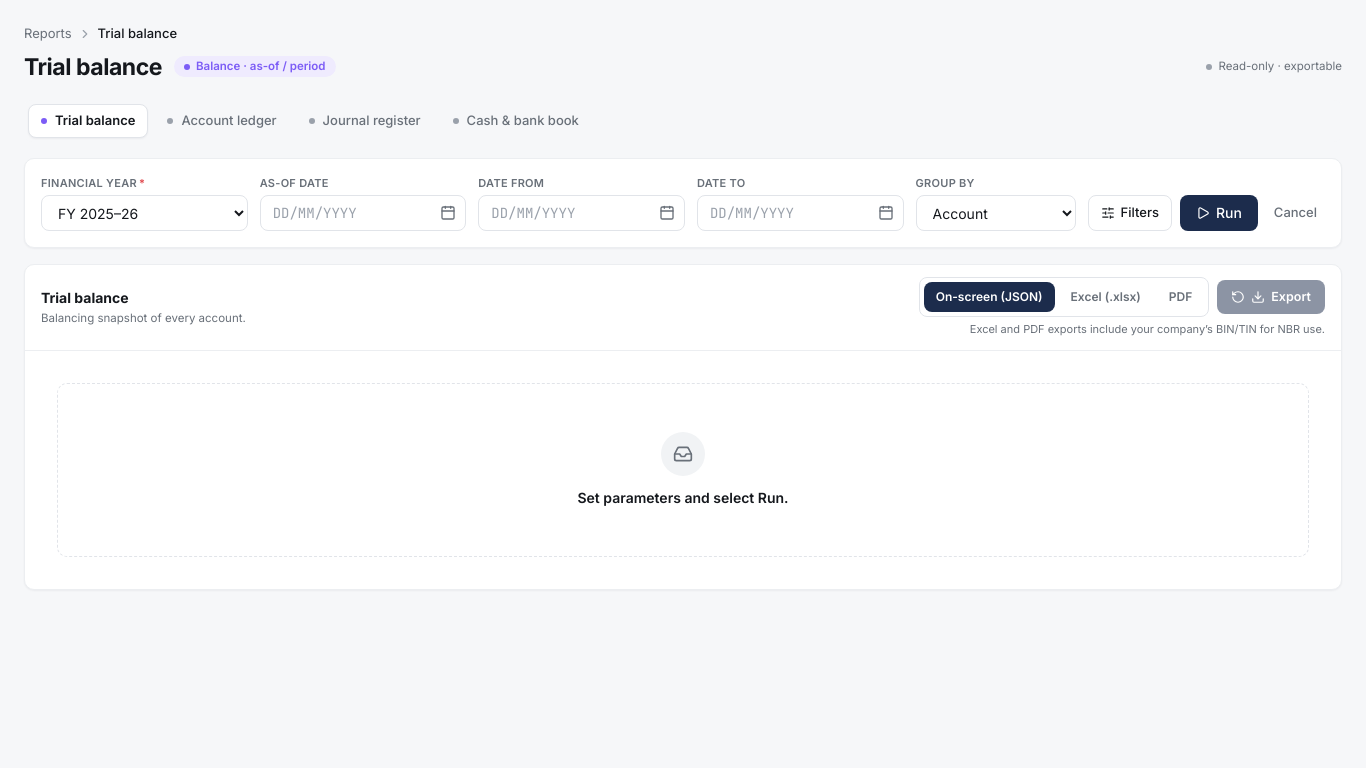
Test: Account ledger — opening balance + running balance across pages (FR-RPT-010) › source-voucher link resolves for journalEntryId + degrades for missing source
This screenshot has width=1366, height=768.
Click the tab with test id "tb-tab-LEDGER" at (222,121), box [154, 104, 290, 138]
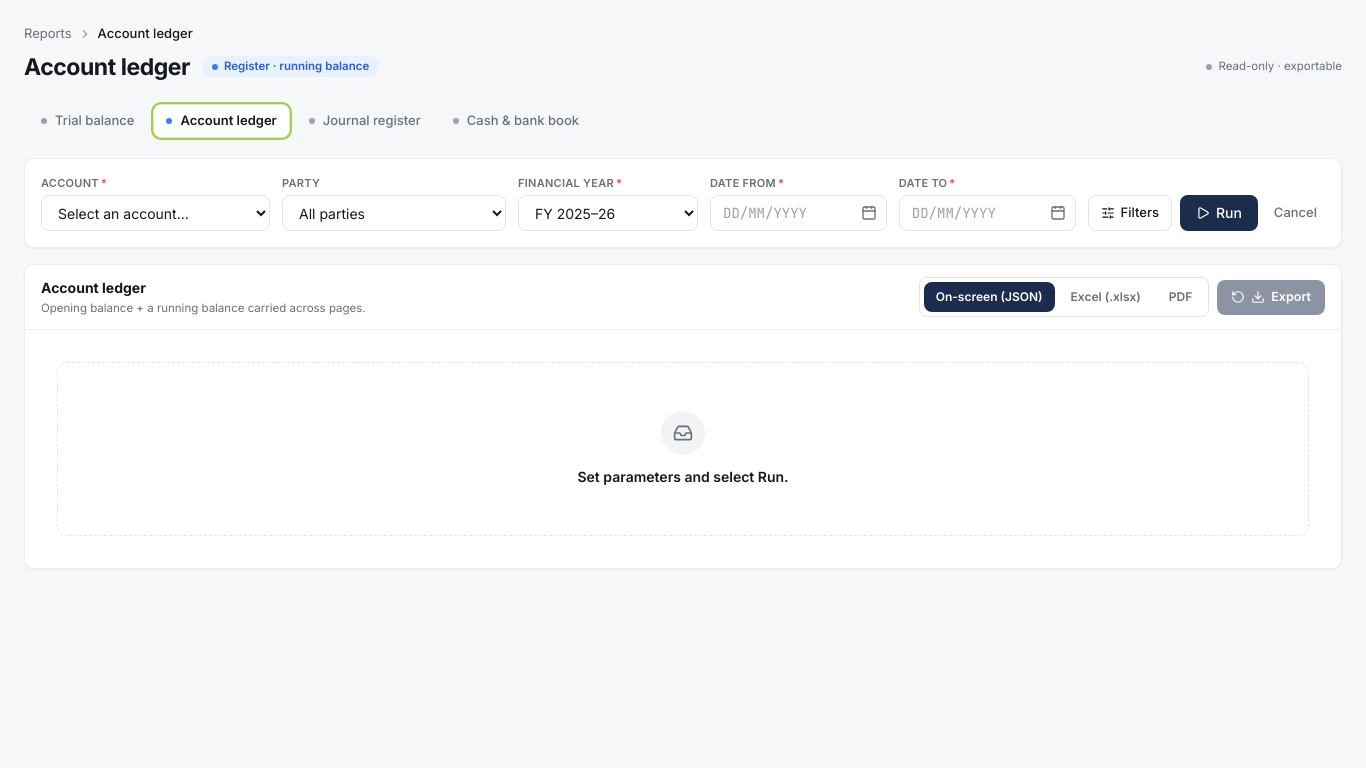
Type "01/04/2026" into the field labelled "Date from*" at (798,213), box [710, 195, 887, 231]
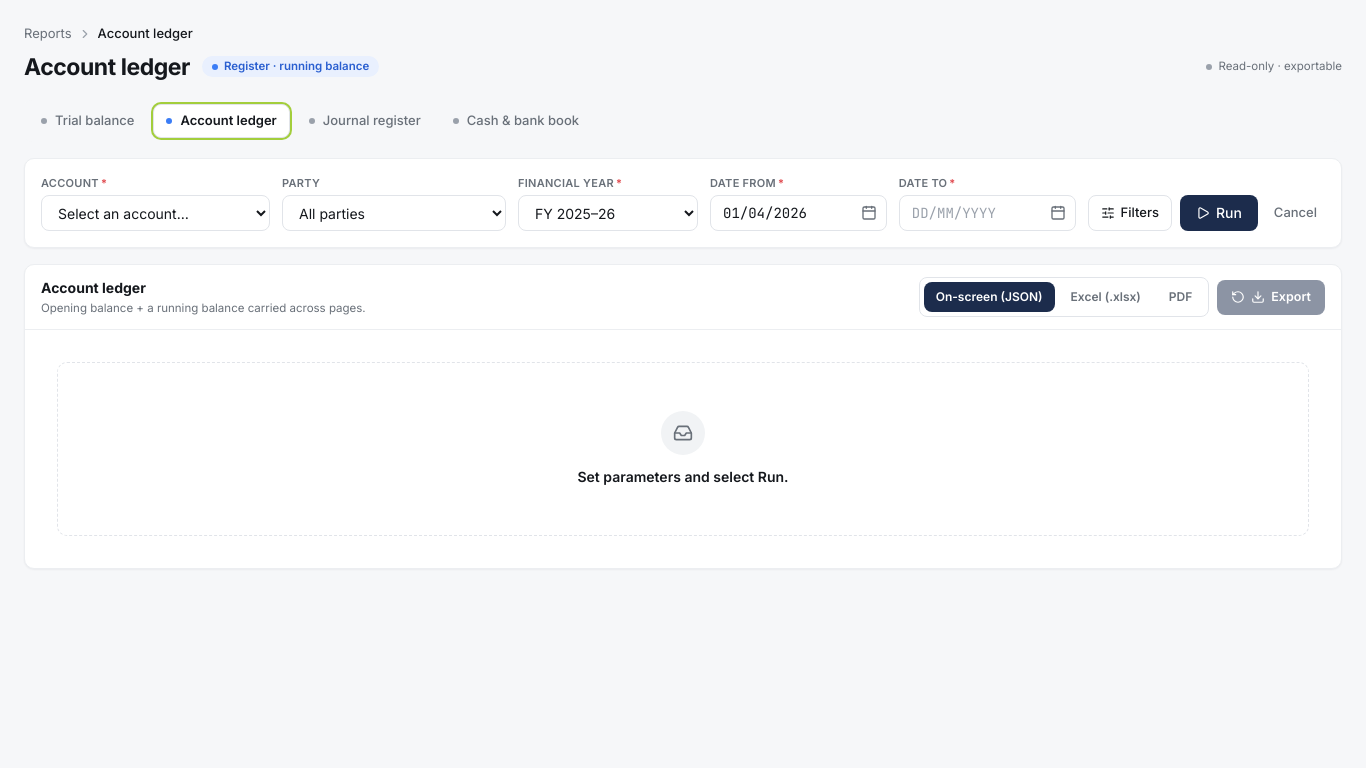
Type "30/06/2026" into the field labelled "Date to*" at (987,213), box [899, 195, 1076, 231]
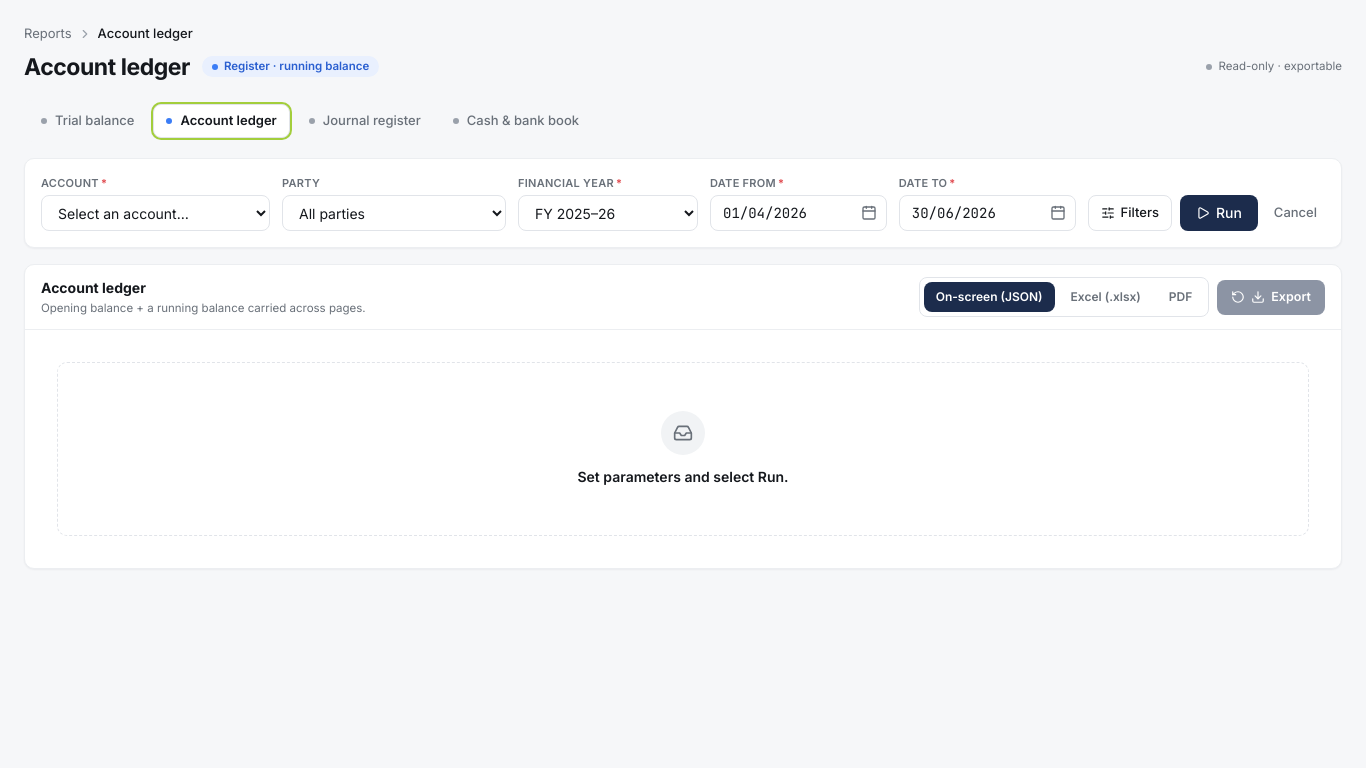
Select "1200 · Accounts Receivable" in the dropdown with test id "ledger-accountId" at (156,213), box [41, 195, 270, 231]
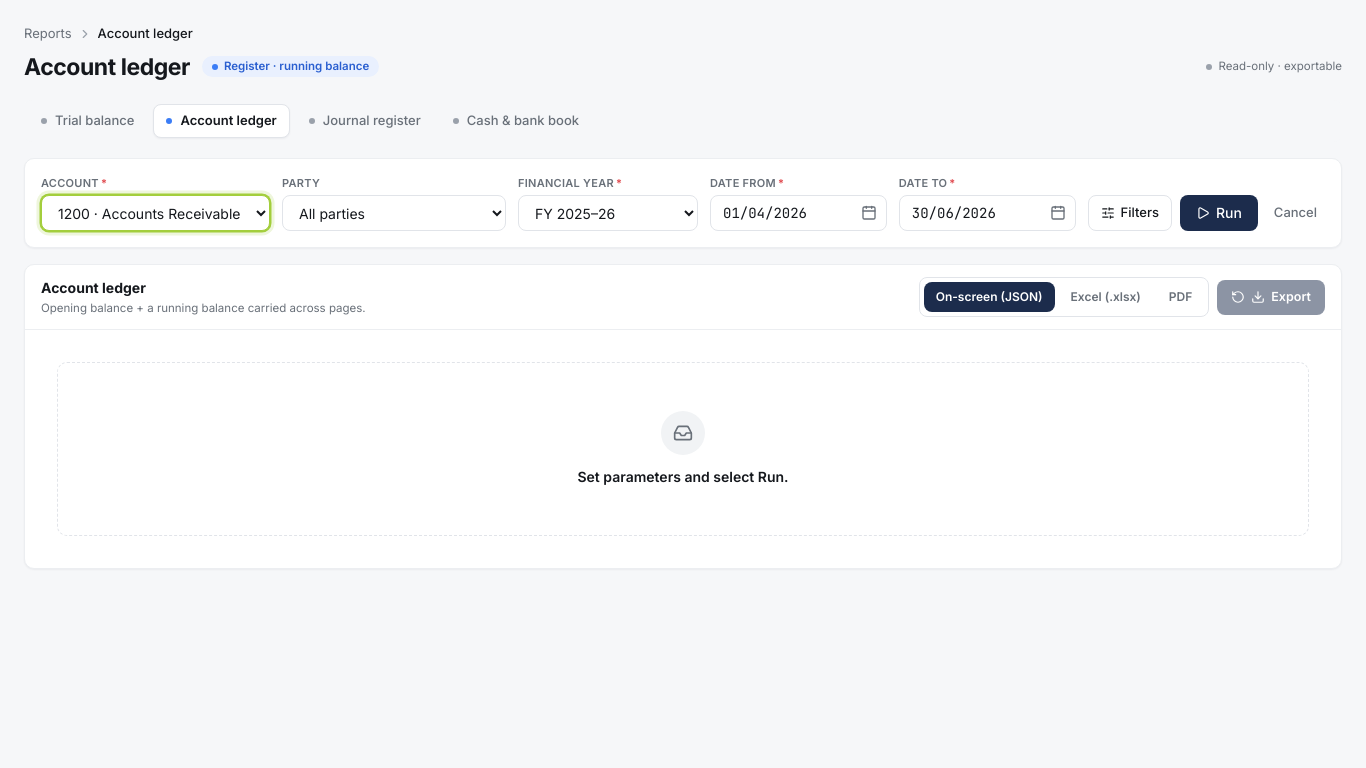
Click the button with test id "report-run" at (1219,213), box [1180, 195, 1258, 231]
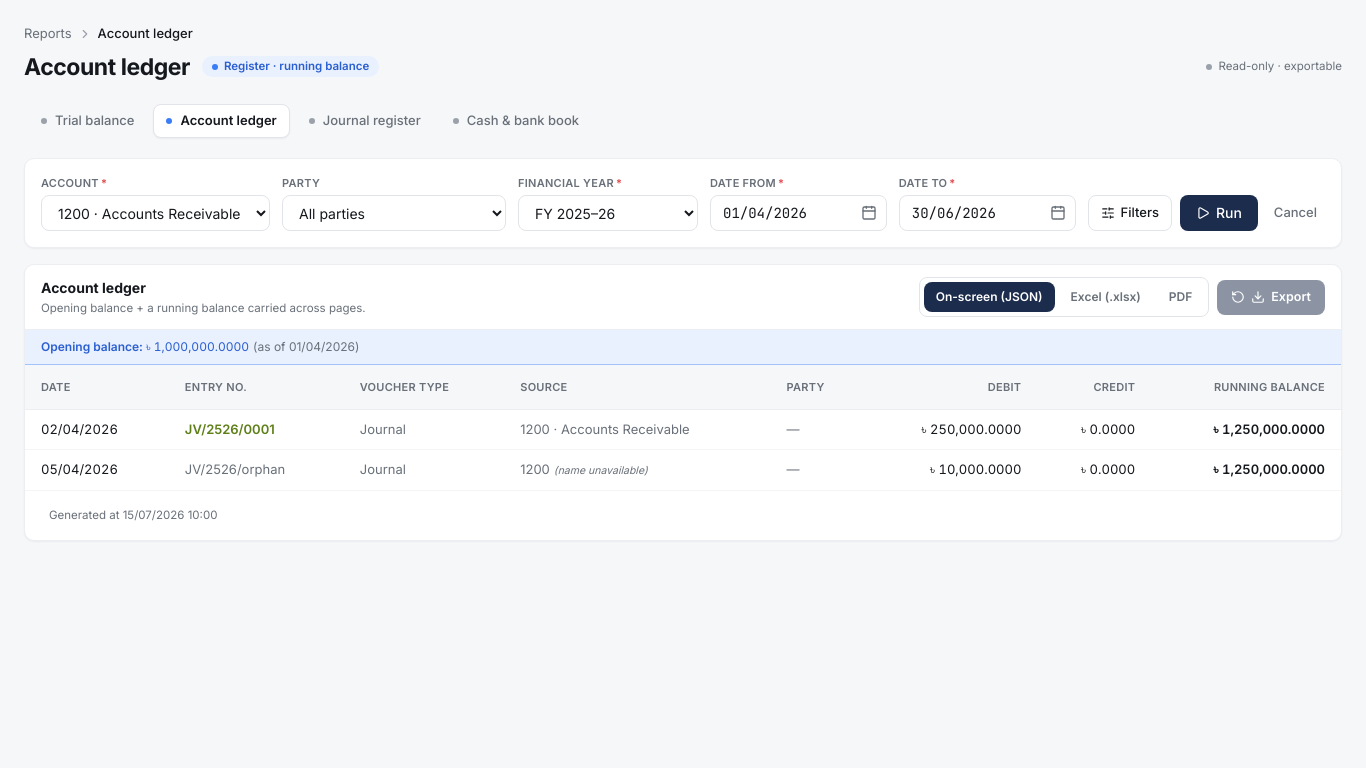
Expected: the element with test id "ledger-table" is shown, [25, 330, 1341, 540]
Expected: the link with test id "source-voucher-link" showing "JV/2526/0001" is shown, [185, 421, 275, 437]
Expected: the text "JV/2526/orphan" is shown, [185, 461, 285, 477]
